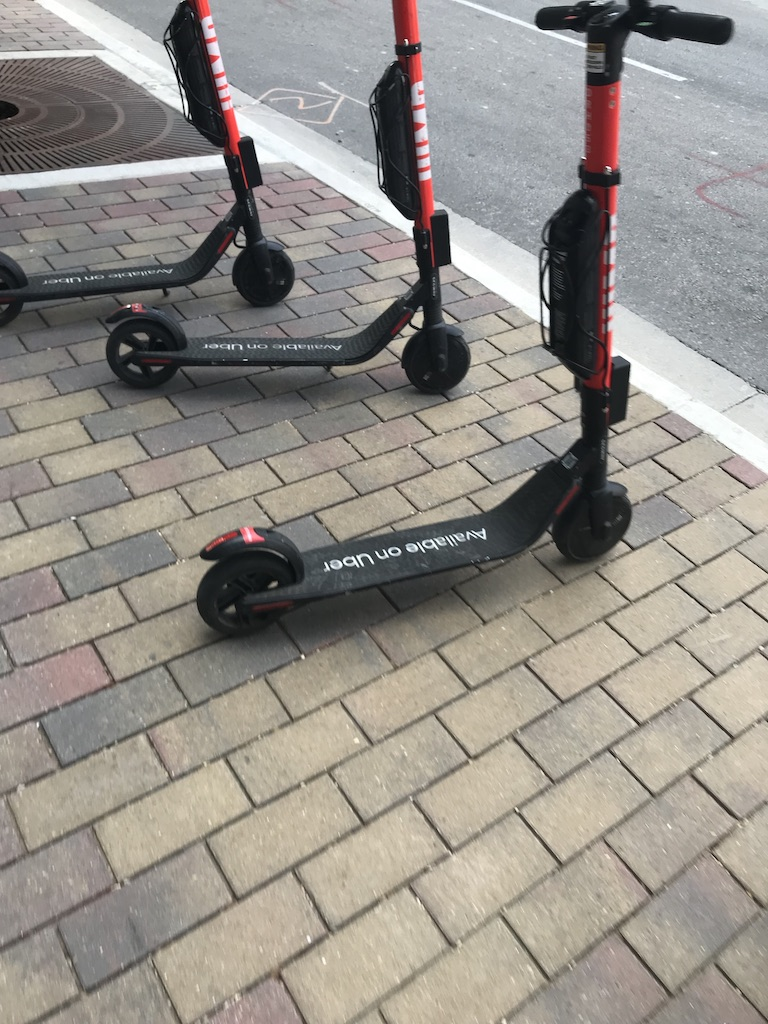scooter: (197, 2, 735, 635), (106, 3, 471, 395), (1, 3, 299, 333)
